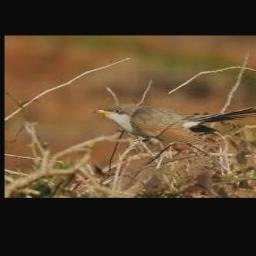Cuckoo: (91, 105, 256, 144)
